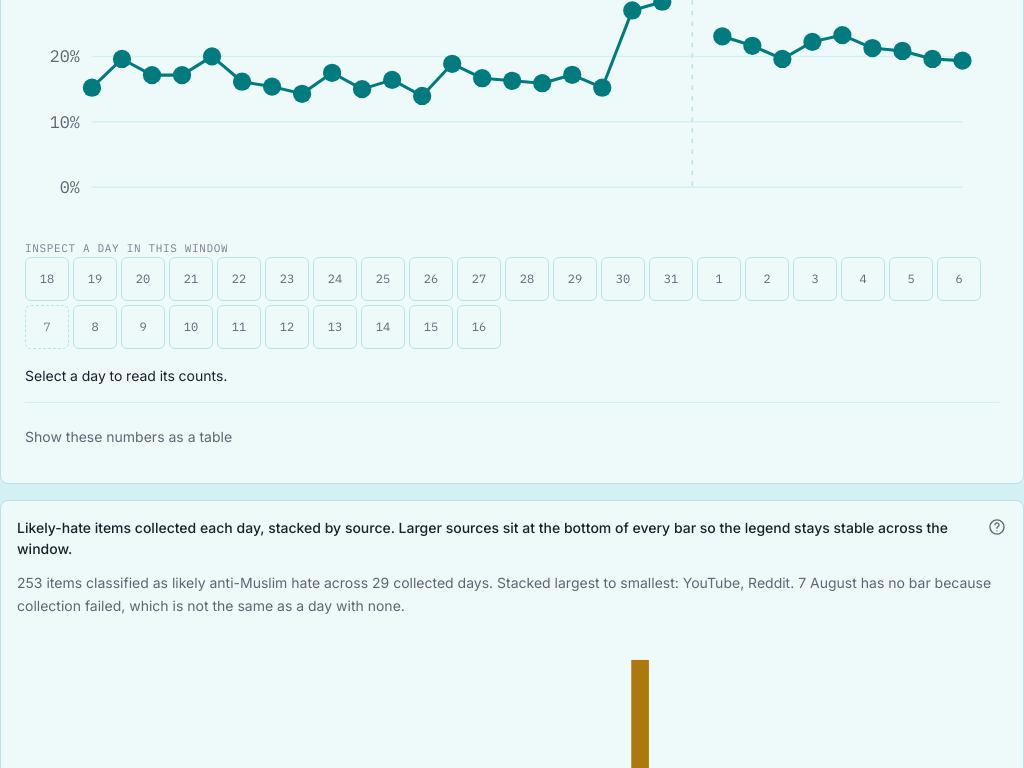
OverviewPage › offers the chart as a table, with the gap day named
The width and height of the screenshot is (1024, 768).
(page scrolled)
Click the heading "Show these numbers as a table". click: point(129, 437)
box: [25,428,232,445]
(page scrolled)
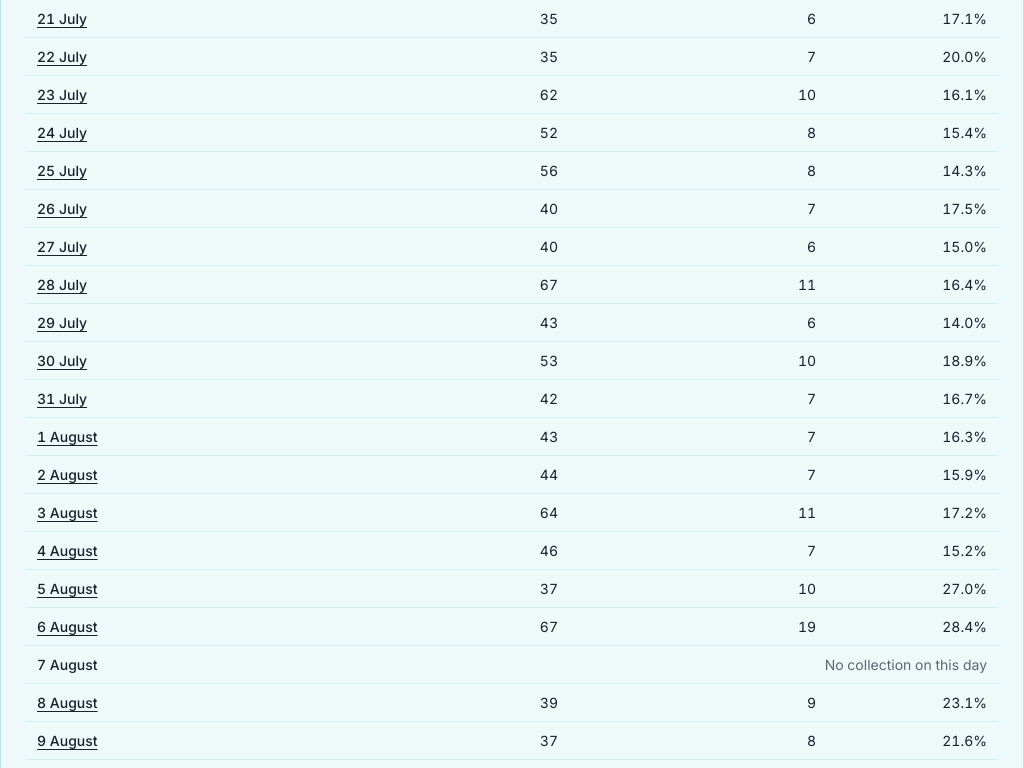
Expected: the row "7 August No collection on this day" is shown, [25,646,999,684]
Expected: the row "1 August 43 7 16.3%" is shown, [25,418,999,456]
